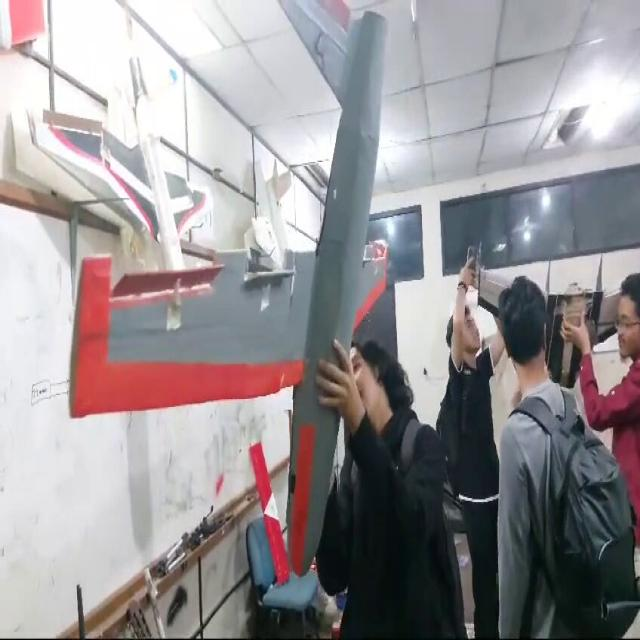plane: (58, 0, 395, 594)
